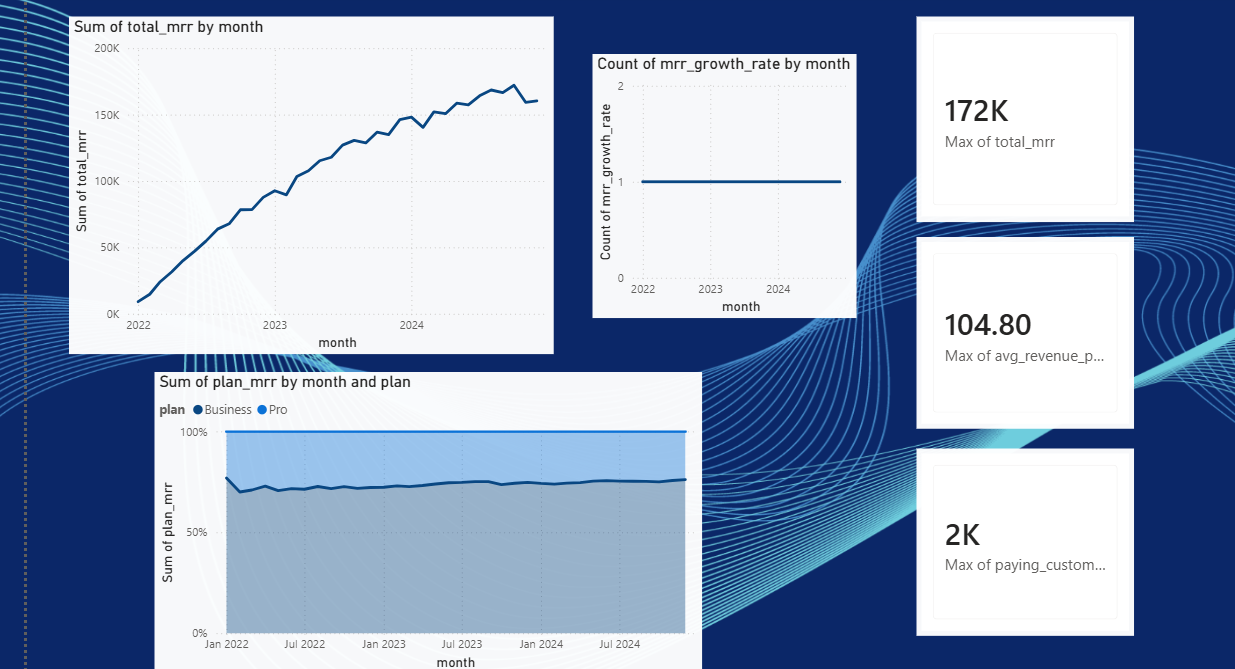

This screenshot's page, from the dashboard's own definition file:
{"tool":"powerbi","page":{"name":"MRR Overview","canvas":[1280,720],"ordinal":0},"visuals":[{"type":"lineChart","fields":{"Category":["mrr_monthly.month"],"Y":["Sum(mrr_monthly.total_mrr)"]},"box":[44.5,23.9,513.8,357.9],"z":0},{"type":"hundredPercentStackedAreaChart","fields":{"Category":["mrr_by_plan.month"],"Y":["Sum(mrr_by_plan.plan_mrr)"],"Series":["mrr_by_plan.plan"]},"box":[135.2,400.8,580.6,319.7],"z":1000},{"type":"lineChart","fields":{"Category":["mrr_growth.month"],"Y":["CountNonNull(mrr_growth.mrr_growth_rate)"]},"box":[599.7,63.6,279.9,279.9],"z":2000},{"type":"cardVisual","fields":{"Data":["Max(mrr_monthly.total_mrr)"]},"box":[943.2,23.9,230.6,217.9],"z":3000},{"type":"cardVisual","fields":{"Data":["Max(mrr_monthly.paying_customers)"]},"box":[943.2,482,230.6,198.8],"z":4000},{"type":"cardVisual","fields":{"Data":["Max(mrr_monthly.avg_revenue_per_customer)"]},"box":[943.2,257.7,230.6,203.6],"z":5000}]}

Visuals, with their boxes in screenshot pixels (x1, y1, x2, y2):
lineChart - mrr_monthly.month x Sum(mrr_monthly.total_mrr): (58, 13, 546, 353)
hundredPercentStackedAreaChart - mrr_by_plan.month x Sum(mrr_by_plan.plan_mrr): (145, 371, 696, 668)
lineChart - mrr_growth.month x CountNonNull(mrr_growth.mrr_growth_rate): (586, 51, 852, 317)
cardVisual - Max(mrr_monthly.total_mrr): (912, 13, 1131, 220)
cardVisual - Max(mrr_monthly.paying_customers): (912, 448, 1131, 637)
cardVisual - Max(mrr_monthly.avg_revenue_per_customer): (912, 235, 1131, 429)
